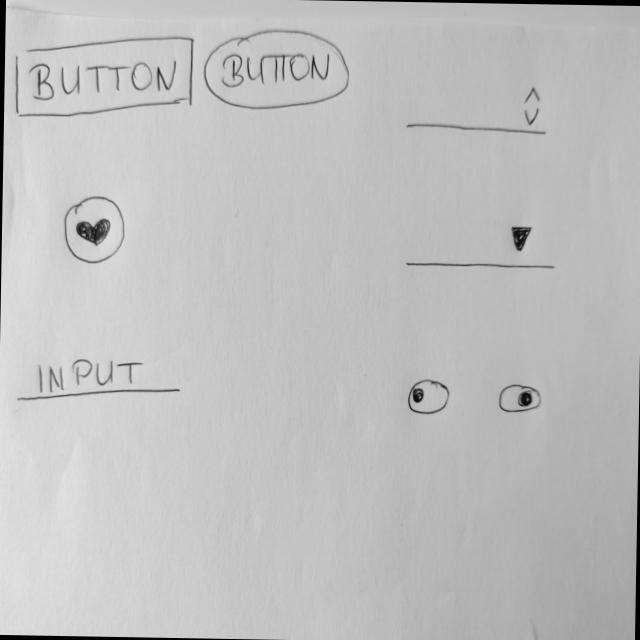button: (12, 33, 195, 124), (203, 27, 352, 115)
icon-button: (63, 192, 128, 266)
input: (16, 351, 183, 406)
number-input: (406, 82, 550, 136)
select: (405, 220, 559, 275)
toggle: (407, 377, 452, 417), (498, 384, 543, 416)
